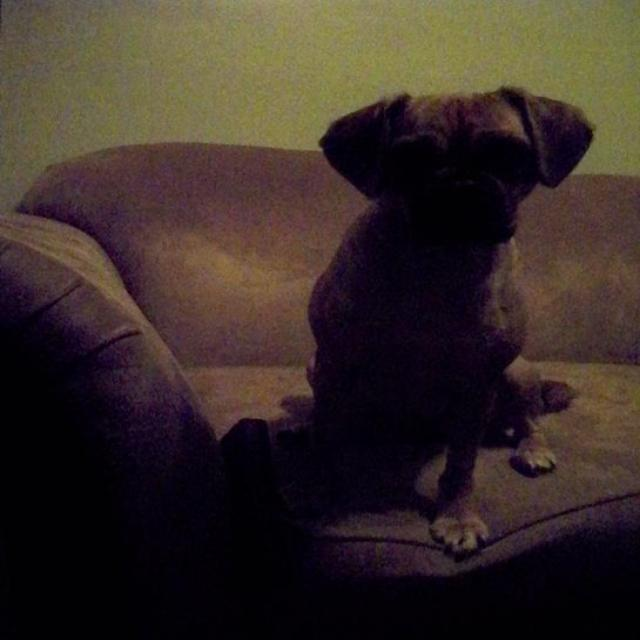Dog: (212, 44, 636, 574)
